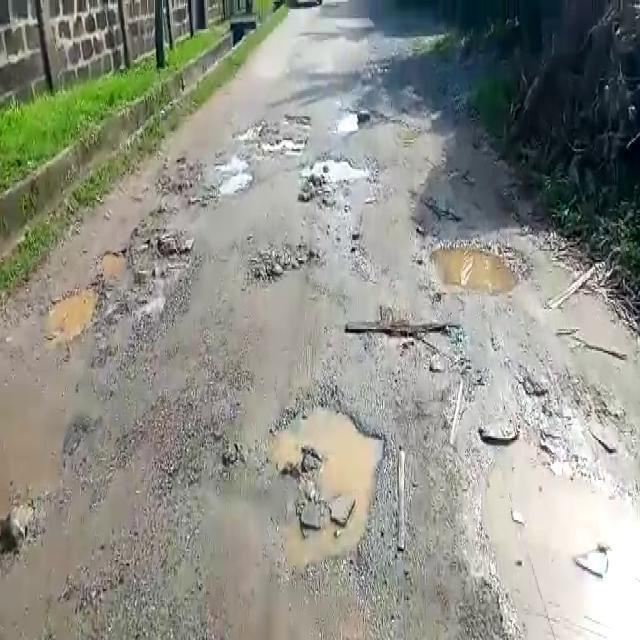pothole: (476, 440, 640, 640), (270, 398, 388, 585), (102, 217, 196, 300), (426, 233, 534, 295), (290, 158, 376, 207), (43, 282, 100, 343), (209, 161, 255, 197)
